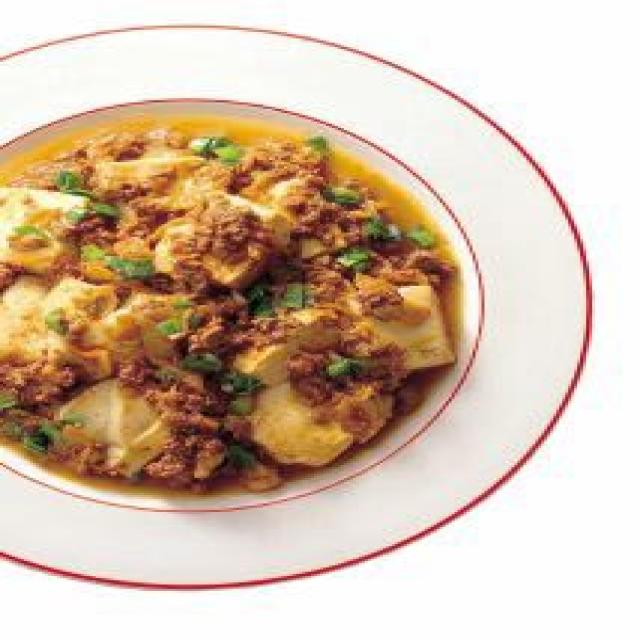豆腐料理: (0, 15, 595, 595)
